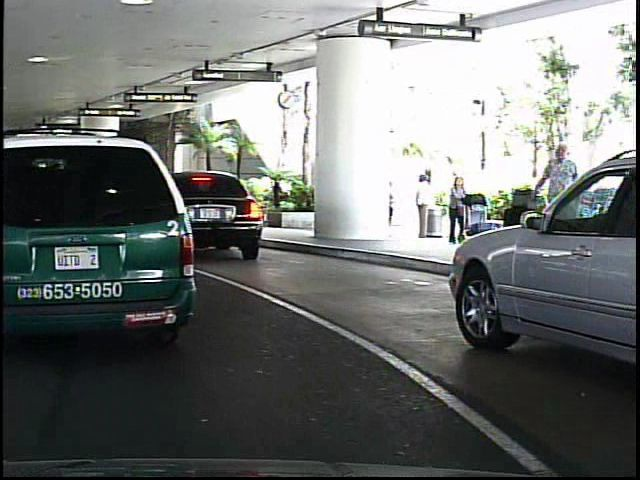person: (530, 134, 585, 280), (440, 171, 470, 247)
